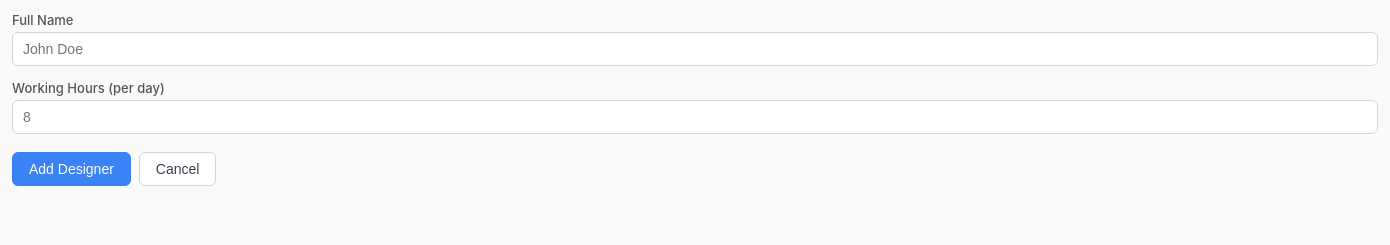
AddDesignerForm › shows validation errors for empty fields
Click the button "Add Designer": (71, 169) [12, 152, 131, 186]
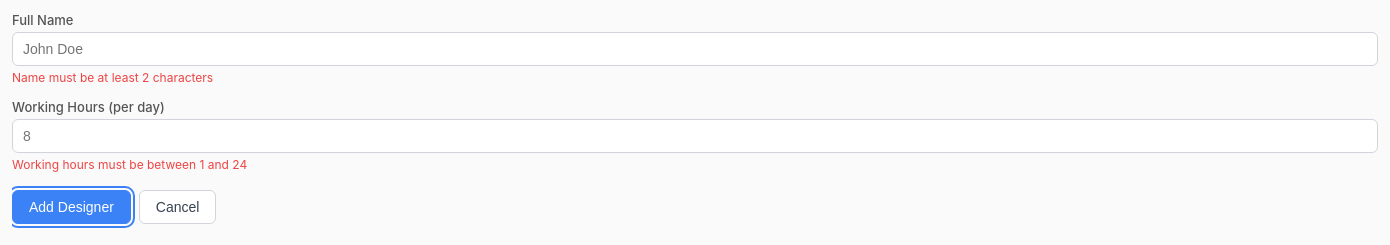
Now the text "Name must be at least 2 characters" is shown, box [12, 70, 213, 85]
Now the text "Working hours must be between 1 and 24" is shown, box [12, 157, 247, 172]
